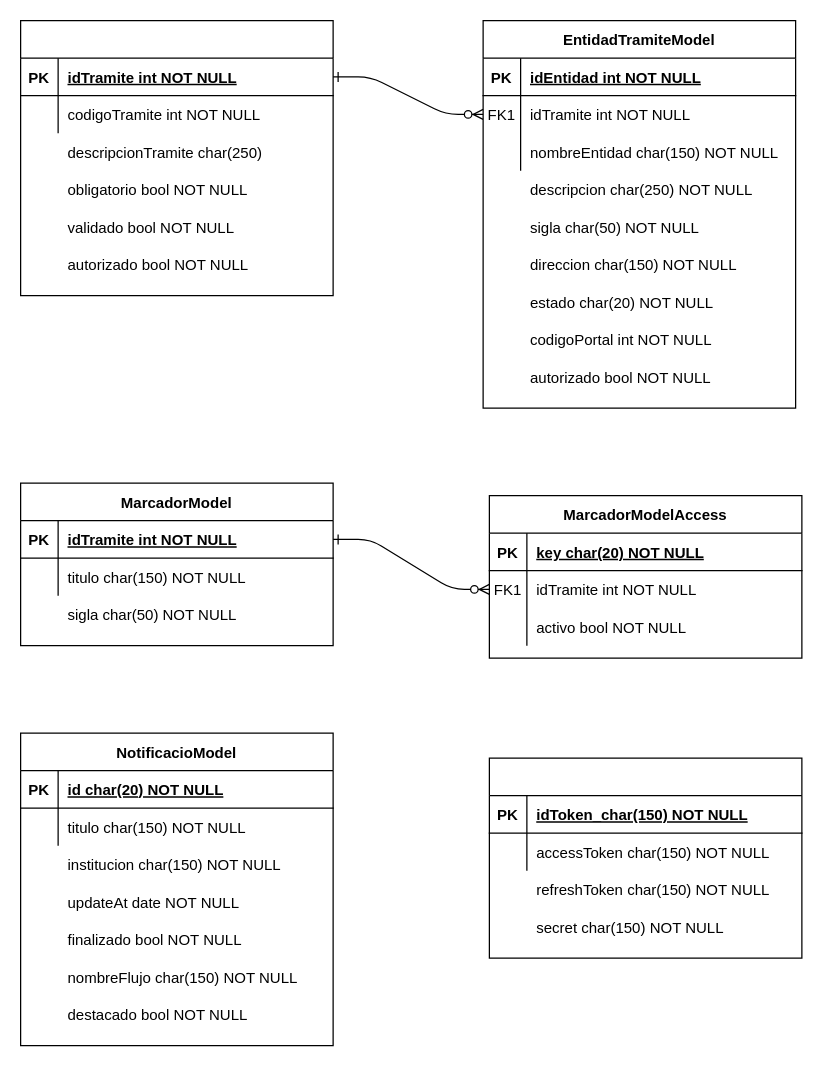
This 823x1066 diagram has some shape labels left out. Here are the shapes that lost their labels. From the top down, the box of each, then its label:
(19, 19, 333, 296): TramiteModel
(488, 757, 802, 958): CuentaCiudadania
